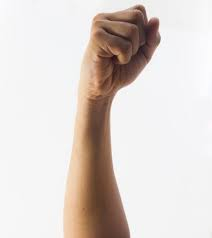click: (78, 1, 172, 124)
